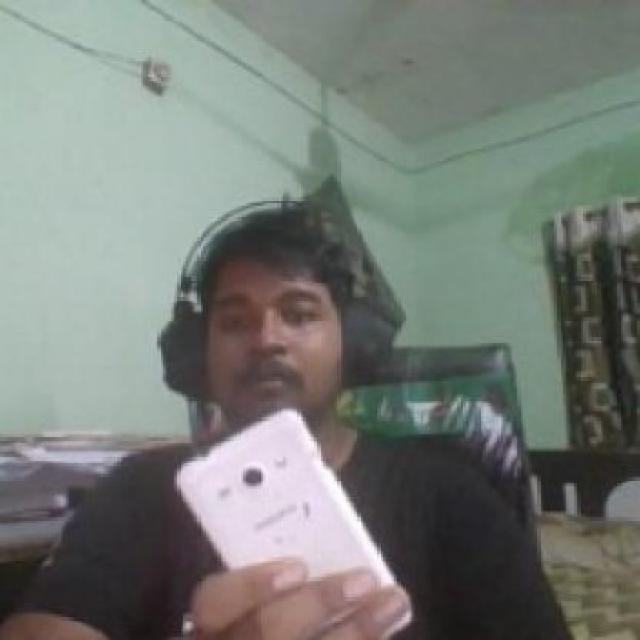Phone: (170, 405, 416, 640)
